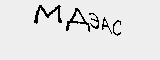А: (99, 14, 112, 36)
Д: (62, 6, 91, 31)
М: (35, 4, 62, 25)
С: (110, 19, 124, 37)
Э: (87, 9, 101, 31)
